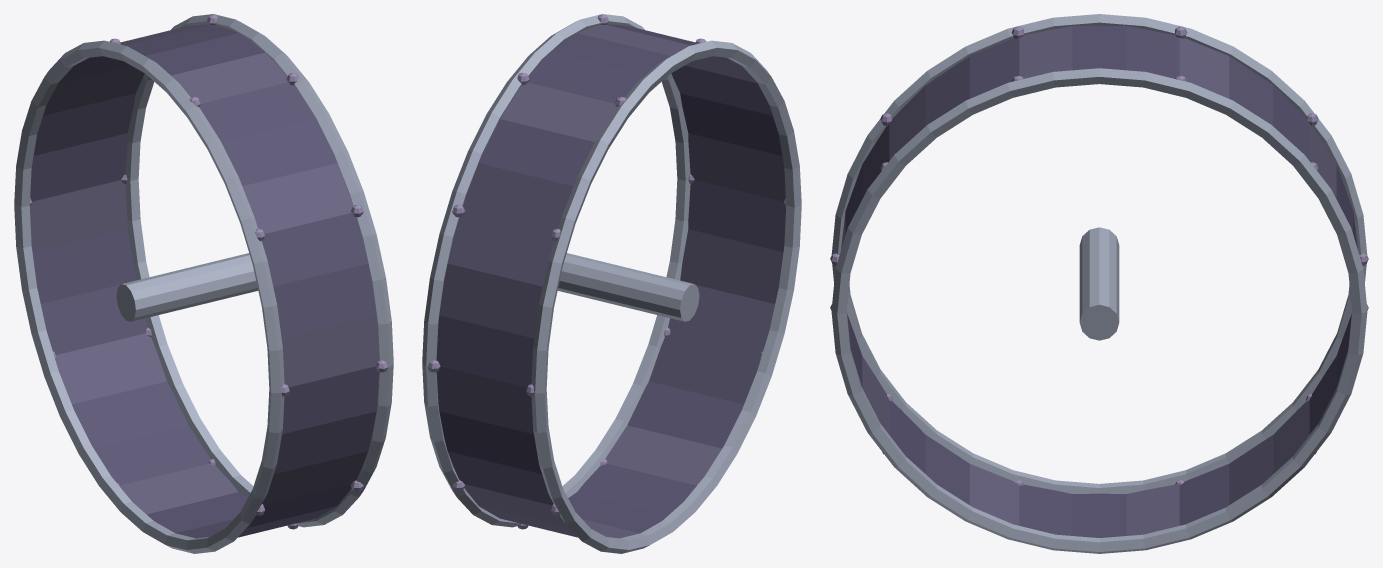
File: tambor_rodillo.glb
3 renders of one model, left to right at view 1: azimuth 30°, elevation 25°; view 2: azimuth 150°, elevation 25°; view 3: azimuth 270°, elevation 25°, orthographic.
Parts seen in each view (by area): view 1: tambor_rodillo; view 2: tambor_rodillo; view 3: tambor_rodillo.
Boxes of the visible parts, box(x1,y1,x2,y2) form: tambor_rodillo: box(14, 14, 393, 553); tambor_rodillo: box(422, 14, 801, 553); tambor_rodillo: box(830, 14, 1368, 553).
Size of the model in its own units: 1.2 by 3.51 by 3.53.
